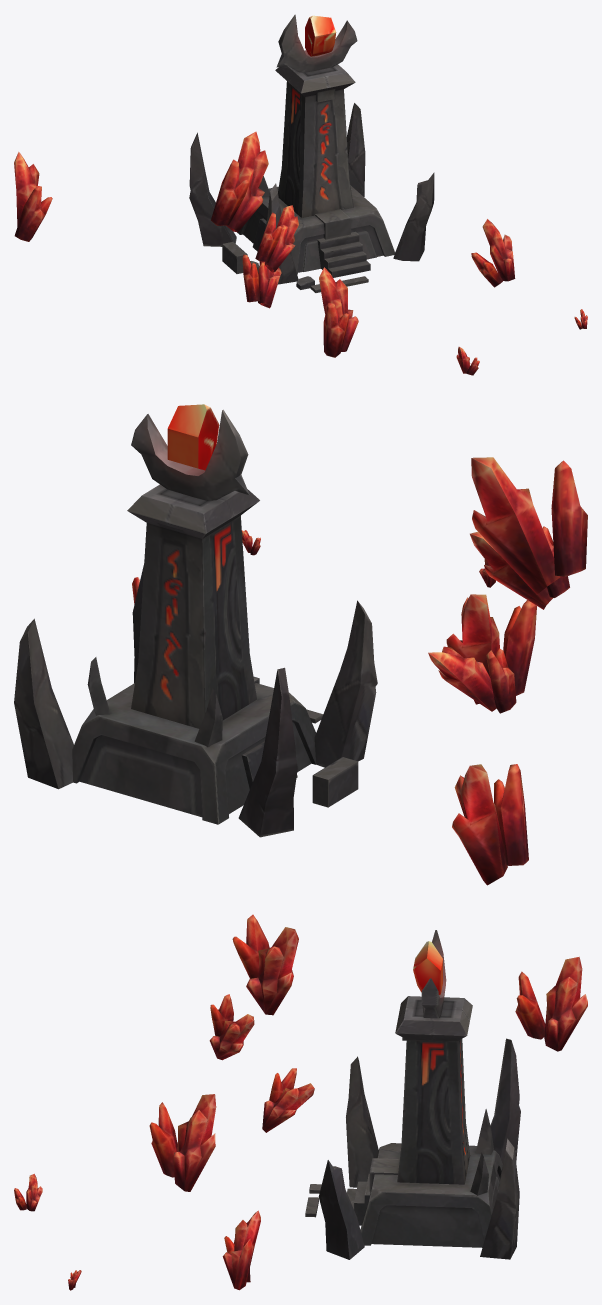
The model's file is boss3_wujian_1.fbx.
The picture shows the model from 3 angles, top to bottom: view 1: azimuth 30°, elevation 25°; view 2: azimuth 150°, elevation 25°; view 3: azimuth 270°, elevation 25°; orthographic projection. The views are drawn at different scales.
Parts seen in each view (by area): view 1: boss3_wujian_1; view 2: boss3_wujian_1; view 3: boss3_wujian_1.
Part boxes in pixels (left/top/right/bottom): boss3_wujian_1: left=14, top=14, right=587, bottom=375; boss3_wujian_1: left=14, top=404, right=587, bottom=885; boss3_wujian_1: left=14, top=914, right=587, bottom=1290.
Size of the model in its own units: 2557 by 1610 by 2838.
